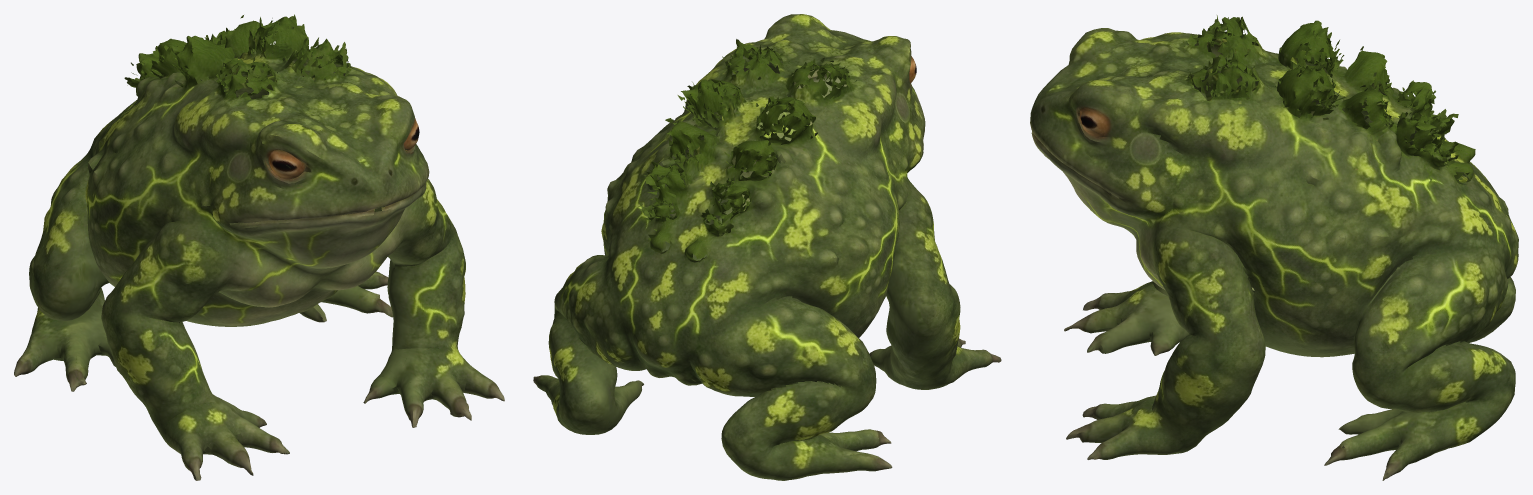
File: mosshock.glb
The picture shows the model from 3 angles, left to right: view 1: azimuth 30°, elevation 25°; view 2: azimuth 150°, elevation 25°; view 3: azimuth 270°, elevation 25°; orthographic projection. The views are drawn at different scales.
Visible parts, largest first — view 1: Mesh_0; view 2: Mesh_0; view 3: Mesh_0.
Boxes of the visible parts, left/top/right/bottom form: Mesh_0: left=14, top=14, right=504, bottom=480; Mesh_0: left=533, top=14, right=1001, bottom=480; Mesh_0: left=1030, top=15, right=1518, bottom=480.
Size of the model in its own units: 1.74 by 1.5 by 1.89.
Materials: 1 (1 with a texture image).
